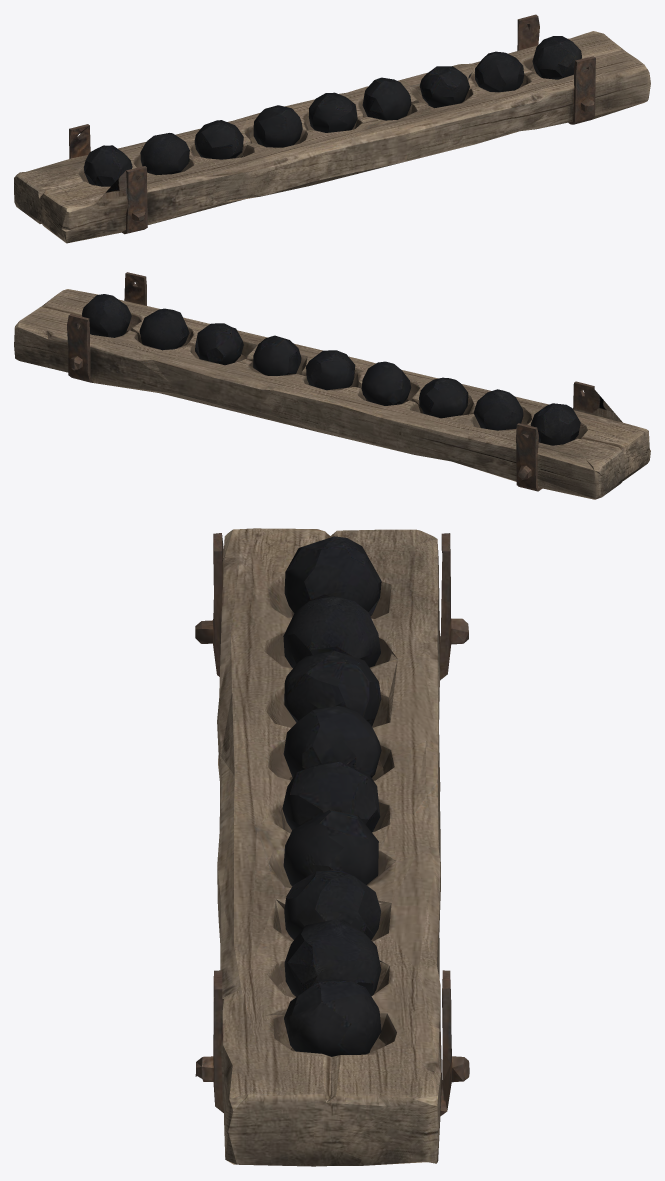
Rendered from shot_garland.glb.
The picture shows the model from 3 angles, top to bottom: view 1: azimuth 30°, elevation 25°; view 2: azimuth 150°, elevation 25°; view 3: azimuth 270°, elevation 25°; orthographic projection. The views are drawn at different scales.
Visible parts, largest first — view 1: output_unwrapped; view 2: output_unwrapped; view 3: output_unwrapped.
Boxes of the visible parts, x1,y1,x2,y2 form: output_unwrapped: (14,14,650,243); output_unwrapped: (14,272,650,499); output_unwrapped: (195,528,469,1166).
Size of the model in its own units: 1.6 by 0.1707 by 0.323.
1 material, 1 textured.
